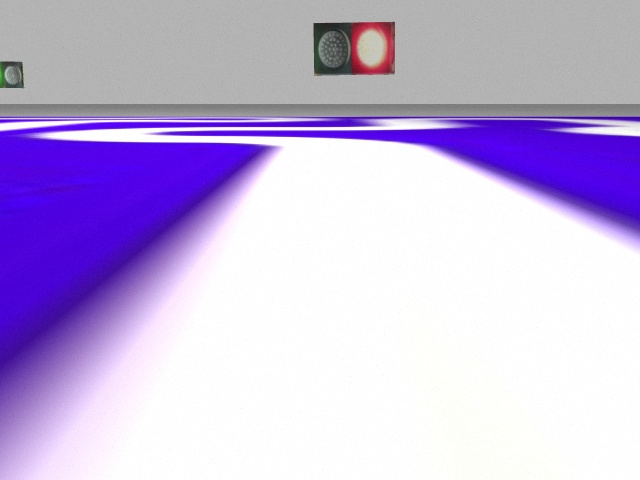red: (350, 22, 392, 75)
